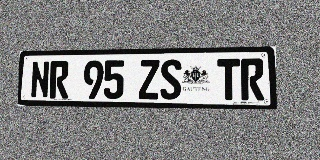5: (104, 60, 124, 99)
9: (84, 60, 104, 99)
N: (30, 61, 50, 98)
R: (241, 58, 264, 100), (49, 61, 69, 99)
S: (160, 59, 181, 100)
T: (217, 59, 240, 100)
Z: (139, 60, 160, 99)
